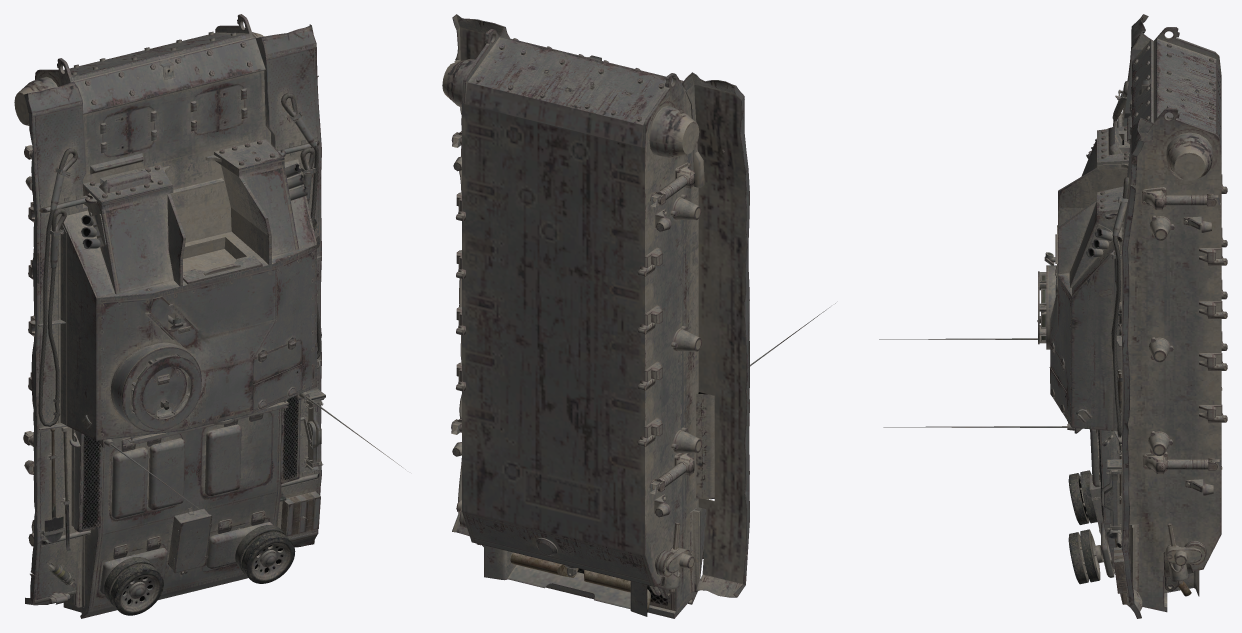
File: Hull.glb
3 views of the same model, side by side, from view 1: azimuth 30°, elevation 25°; view 2: azimuth 150°, elevation 25°; view 3: azimuth 270°, elevation 25° (orthographic). The views are drawn at different scales.
Visible parts, largest first — view 1: set_0_group_0; view 2: set_0_group_0; view 3: set_0_group_0.
Part boxes in pixels (<box>): set_0_group_0: <box>14,14,405,618</box>; set_0_group_0: <box>442,14,835,618</box>; set_0_group_0: <box>879,14,1227,618</box>.
Size of the model in its own units: 3.03 by 5.42 by 3.48.
Materials: 1 (1 with a texture image).
